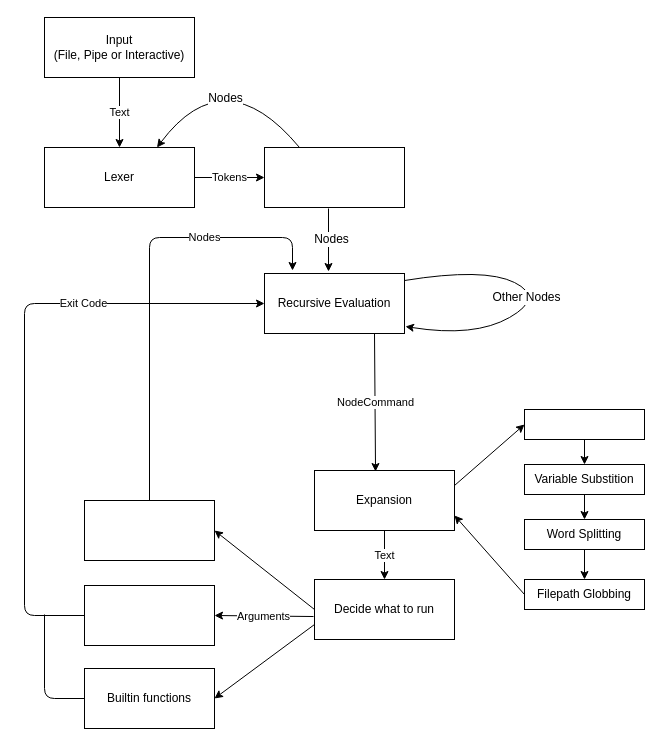
Image size: 662x746. Some labels were removed from this diagram. The centre of each missing label's shape, as x and y in pixels:
"Parser" goes at point (334, 177).
"System executable" goes at point (149, 615).
"Tilde Expansion" goes at point (584, 424).
"User defined functions" goes at point (149, 530).
